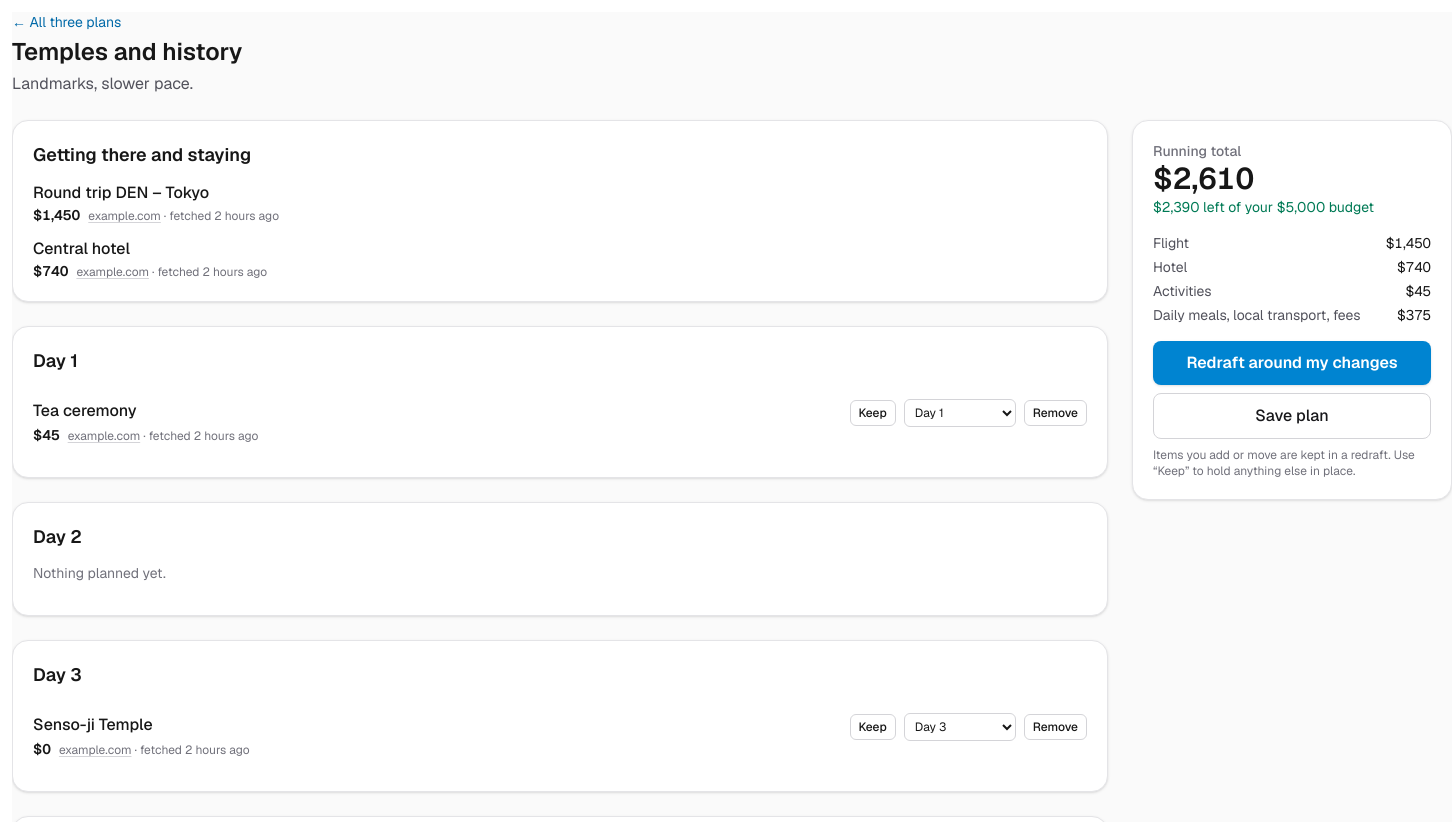
Test: PlanEditor › moving an item to another day keeps it in a redraft
Select "Move to day 1" in the dropdown named "Move Senso-ji Temple to" in the row of "Senso-ji Temple" at (960, 727), box top-left (904, 713), bottom-right (1016, 741)
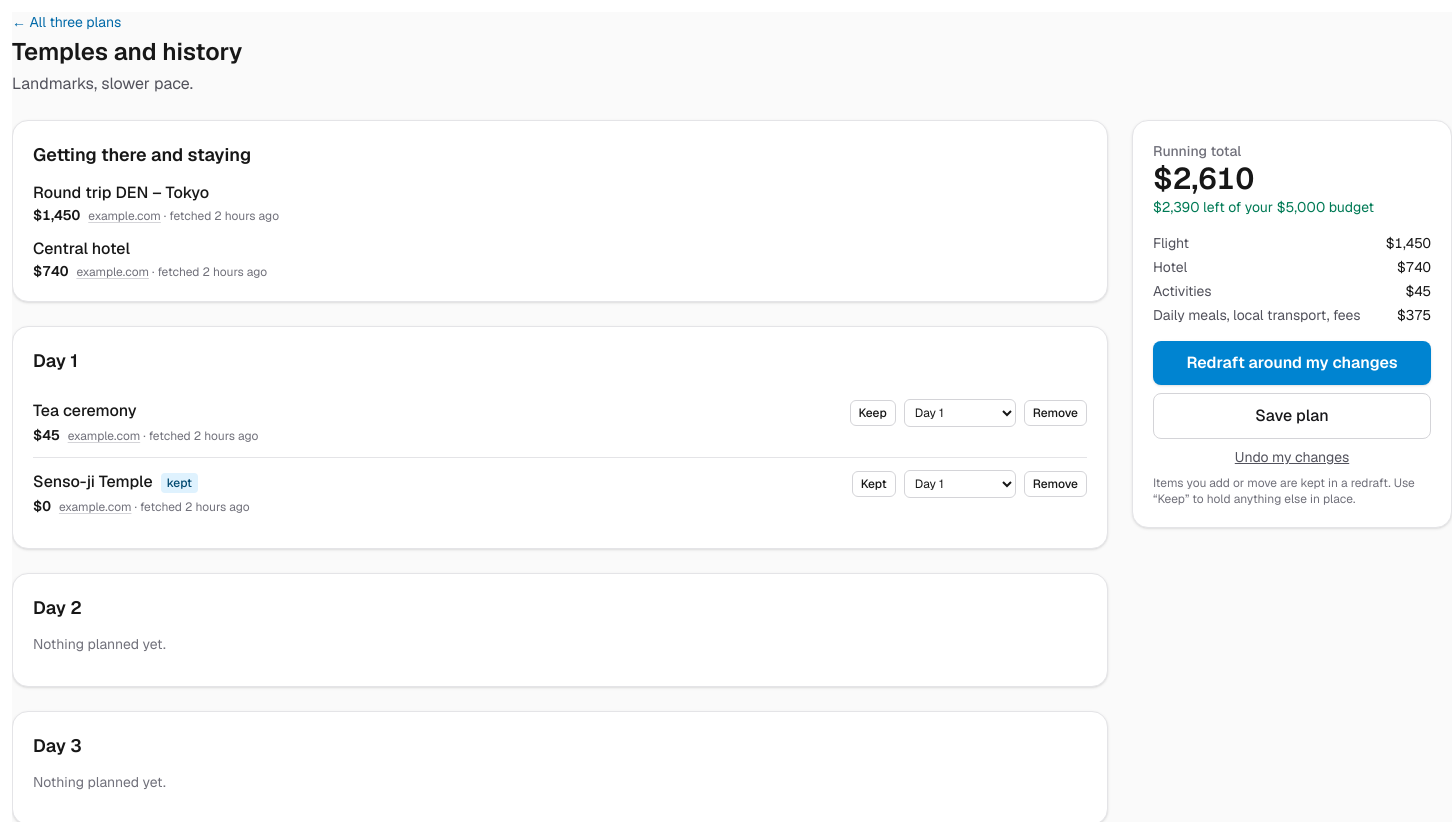
Expected: the text "Senso-ji Temple" is shown, top-left (33, 471), bottom-right (153, 492)
Result: the button with aria-label "Keep Senso-ji Temple in a redraft" is pressed at top-left (852, 471), bottom-right (896, 497)
